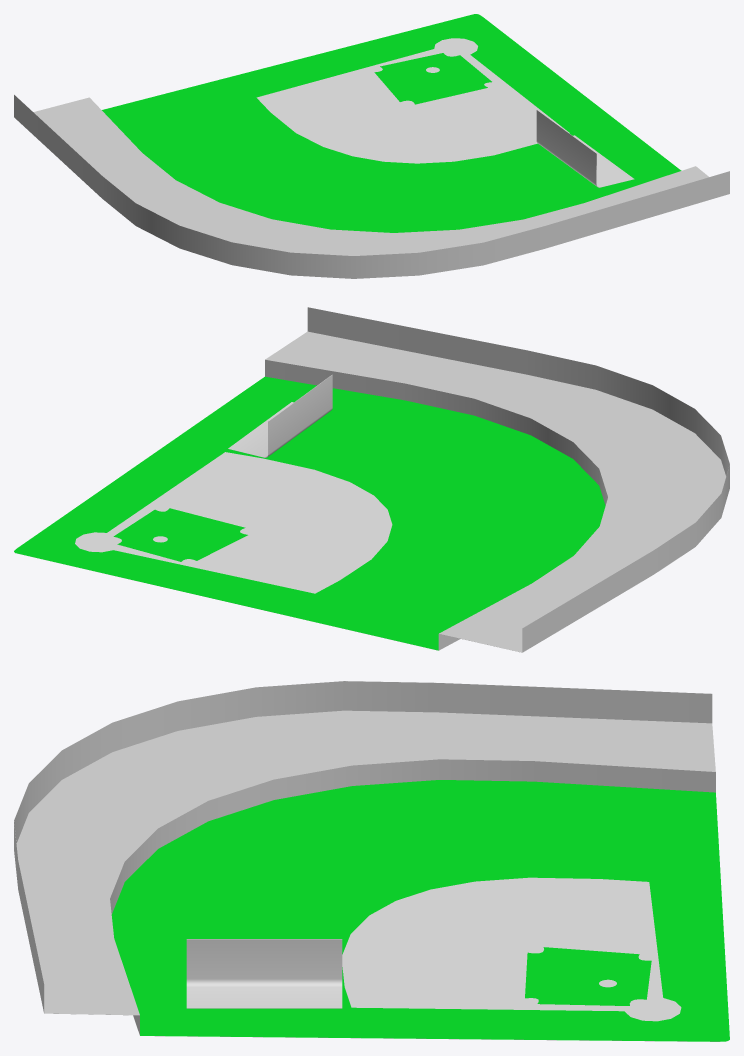
The model's file is BaseBallField.fbx.
3 views of the same model, one above another, from view 1: azimuth 30°, elevation 25°; view 2: azimuth 150°, elevation 25°; view 3: azimuth 270°, elevation 25° (orthographic). The views are drawn at different scales.
Visible parts, largest first — view 1: Basballfield, Plane.001, Plane; view 2: Basballfield, Plane.001, Plane; view 3: Basballfield, Plane, Plane.001.
Part boxes in pixels (x1,y1,x2,y2): Basballfield: (14, 14, 729, 278); Plane.001: (374, 53, 491, 104); Plane: (536, 110, 634, 187); Basballfield: (14, 307, 729, 652); Plane.001: (113, 508, 247, 561); Plane: (228, 374, 332, 457); Basballfield: (14, 681, 729, 1041); Plane: (186, 939, 342, 1008); Plane.001: (525, 947, 651, 1005).
Size of the model in its own units: 12768 by 965 by 12436.
